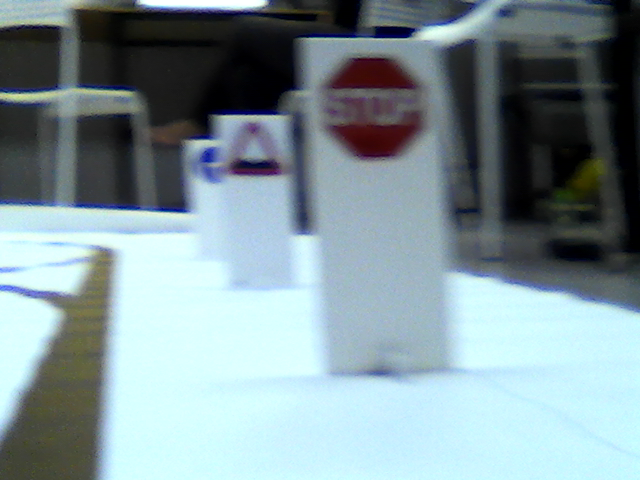Stop: (318, 53, 424, 158)
